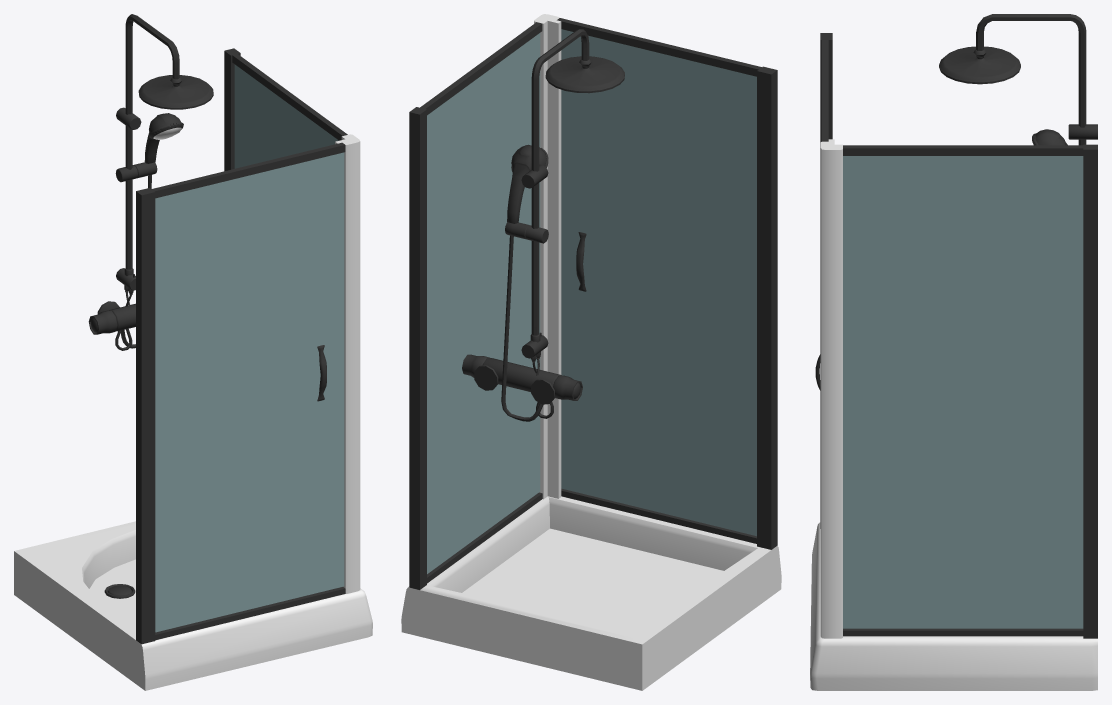
3 renders of one model, left to right at view 1: azimuth 30°, elevation 25°; view 2: azimuth 150°, elevation 25°; view 3: azimuth 270°, elevation 25°, orthographic. The views are drawn at different scales.
Visible parts, largest first — view 1: K17224TL; view 2: K17224TL; view 3: K17224TL.
Boxes of the visible parts, x1,y1,x2,y2 form: K17224TL: (14, 14, 372, 690); K17224TL: (401, 14, 781, 690); K17224TL: (810, 14, 1097, 690).
Size of the model in its own units: 2261 by 5309 by 2261.
